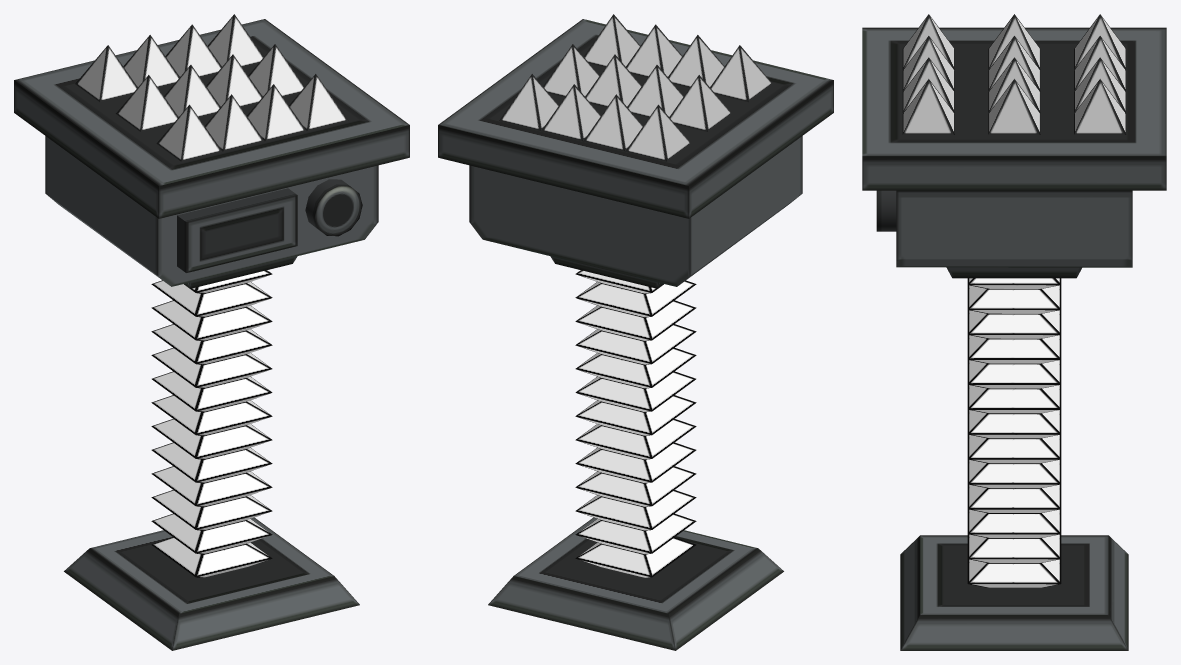
Rendered from Jump_Platform04_Spring.fbx.
The picture shows the model from 3 angles, left to right: view 1: azimuth 30°, elevation 25°; view 2: azimuth 150°, elevation 25°; view 3: azimuth 270°, elevation 25°; orthographic projection. The views are drawn at different scales.
Visible parts, largest first — view 1: polySurface442, pCube34, polySurface362; view 2: polySurface442, pCube34, polySurface362; view 3: polySurface442, pCube34, polySurface362.
Part boxes in pixels (<box>): polySurface442: <box>14,14,409,288</box>; pCube34: <box>151,270,272,577</box>; polySurface362: <box>64,517,359,650</box>; polySurface442: <box>438,14,833,288</box>; pCube34: <box>575,270,696,577</box>; polySurface362: <box>488,517,783,650</box>; polySurface442: <box>862,14,1166,278</box>; pCube34: <box>967,278,1061,587</box>; polySurface362: <box>900,535,1128,650</box>.
Size of the model in its own units: 0.2981 by 0.6007 by 0.2981.
2 materials, 2 textured.
